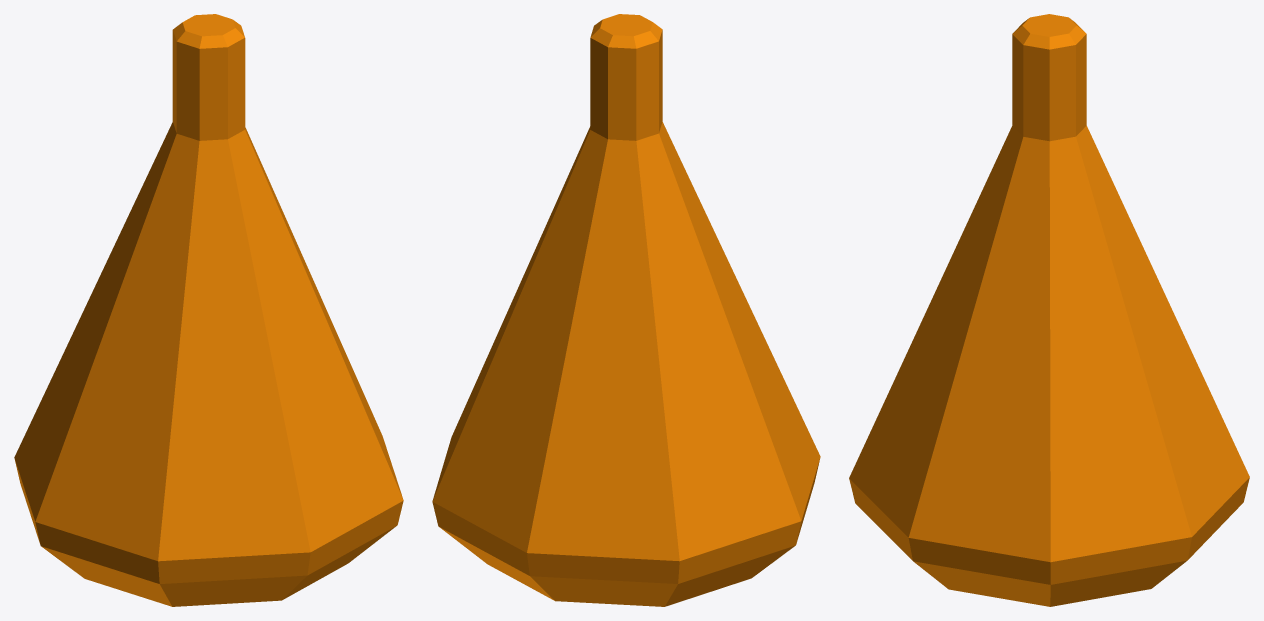
File: Whisky5.fbx
3 renders of one model, left to right at view 1: azimuth 30°, elevation 25°; view 2: azimuth 150°, elevation 25°; view 3: azimuth 270°, elevation 25°, orthographic.
Parts seen in each view (by area): view 1: Whisky5; view 2: Whisky5; view 3: Whisky5.
Boxes of the visible parts, box(x1,y1,x2,y2) form: Whisky5: box(14, 14, 403, 606); Whisky5: box(432, 14, 820, 606); Whisky5: box(849, 14, 1249, 606).
Bounding box in the file's own units: 0.1113 × 0.1596 × 0.1113.
Materials: 1 (1 with a texture image).
